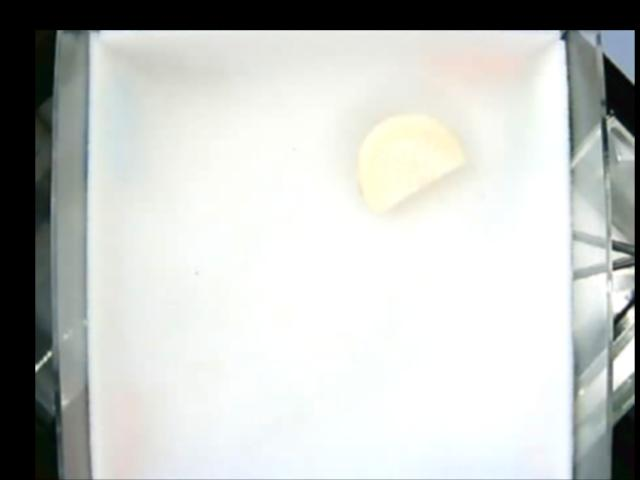Mooli: (358, 115, 467, 210)
